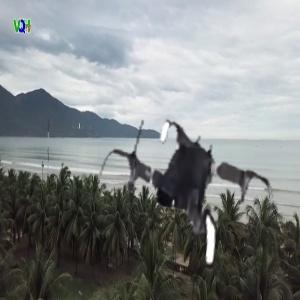drone: (89, 106, 280, 297)
